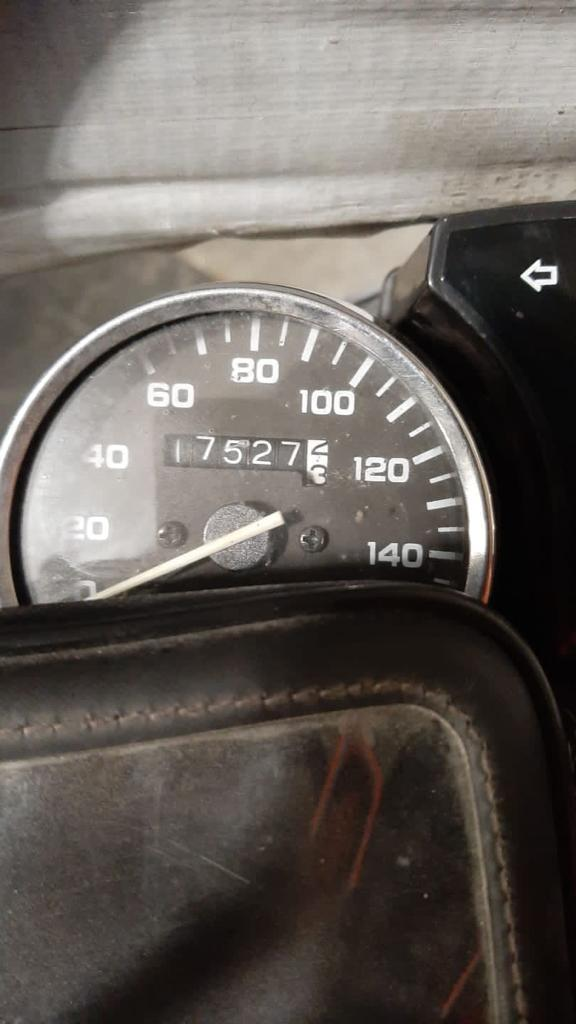1: (171, 437, 185, 470)
2: (251, 437, 273, 470), (310, 436, 330, 460)
3: (309, 464, 329, 486)
5: (222, 437, 245, 467)
7: (195, 432, 217, 464), (281, 438, 302, 467)
odometer: (160, 431, 331, 491)
